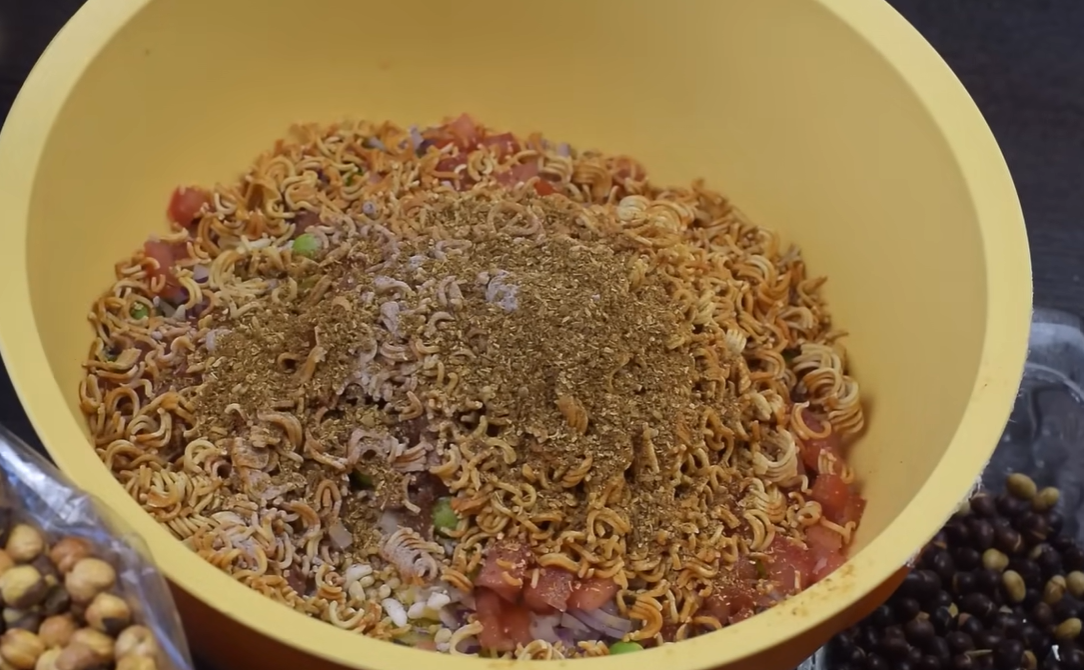chatpate: (110, 113, 817, 607)
